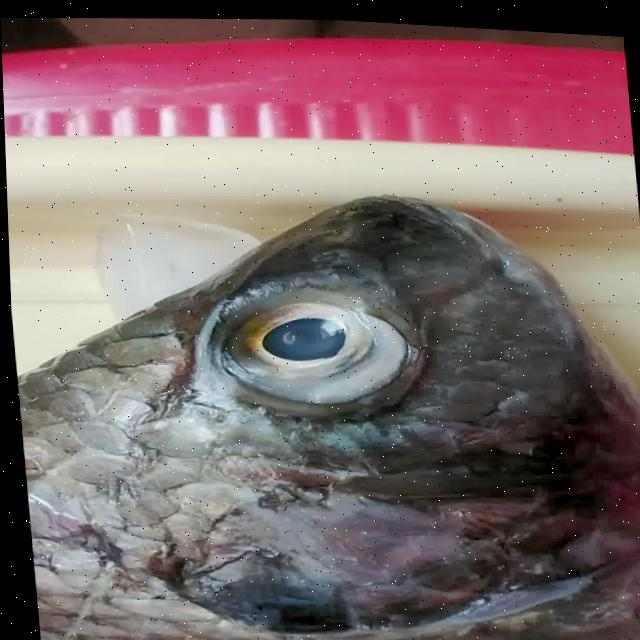Fresh: (116, 251, 451, 464)
